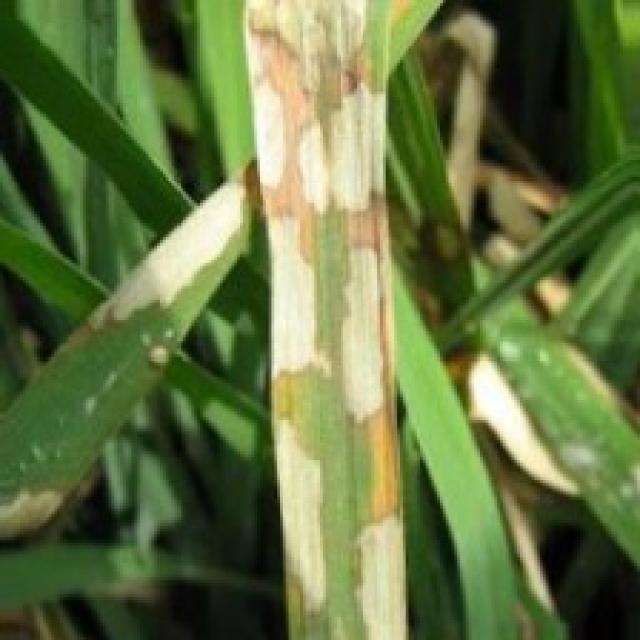Bacterial_Blight: (74, 171, 255, 349), (298, 73, 394, 223), (266, 206, 337, 389), (266, 406, 324, 612), (338, 242, 400, 424), (343, 505, 424, 640), (236, 61, 294, 200), (246, 0, 368, 60), (0, 480, 86, 552), (137, 328, 177, 384)
